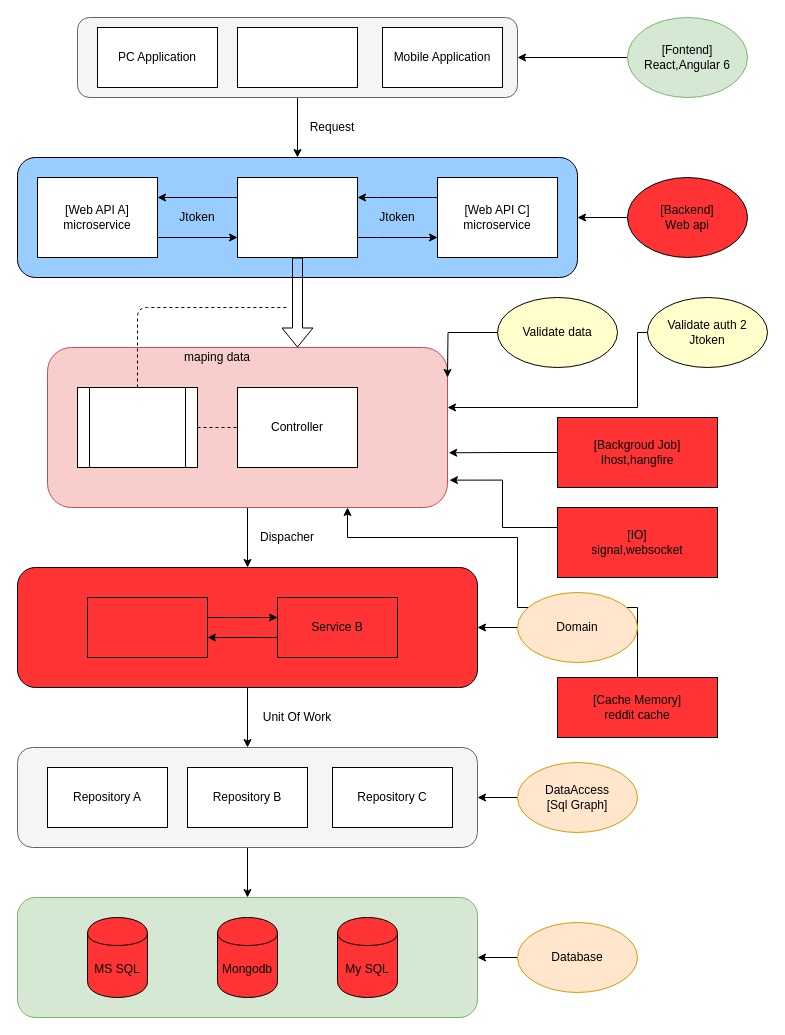
Image size: 785x1035. Some labels were removed from this diagram. Here are the shapes that lost their labels. From the top down, the box of each, then its label:
(236, 26, 358, 88): Web Application
(236, 176, 358, 258): [Web API] microservice
(76, 386, 198, 468): Model
(86, 596, 208, 658): Service A
